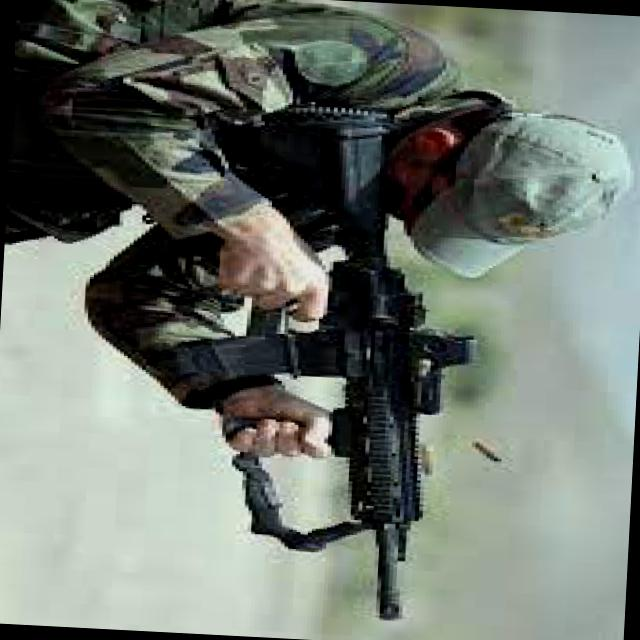long weapon: (243, 247, 491, 624)
